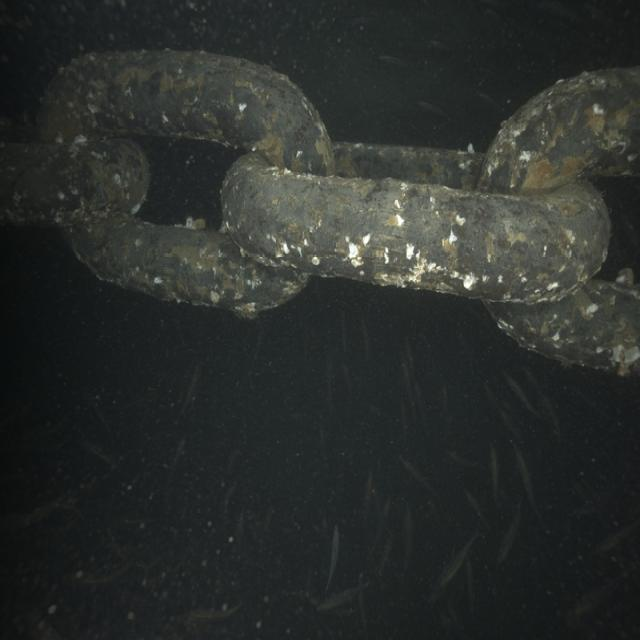ChainLink: (221, 154, 610, 303), (40, 51, 335, 175), (64, 221, 309, 318), (476, 68, 640, 193), (485, 280, 640, 375), (0, 140, 149, 225), (332, 142, 483, 190)
